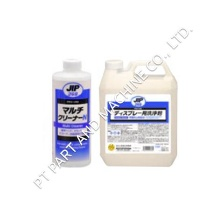cleaning_solution: (98, 57, 179, 169), (50, 56, 93, 169)
